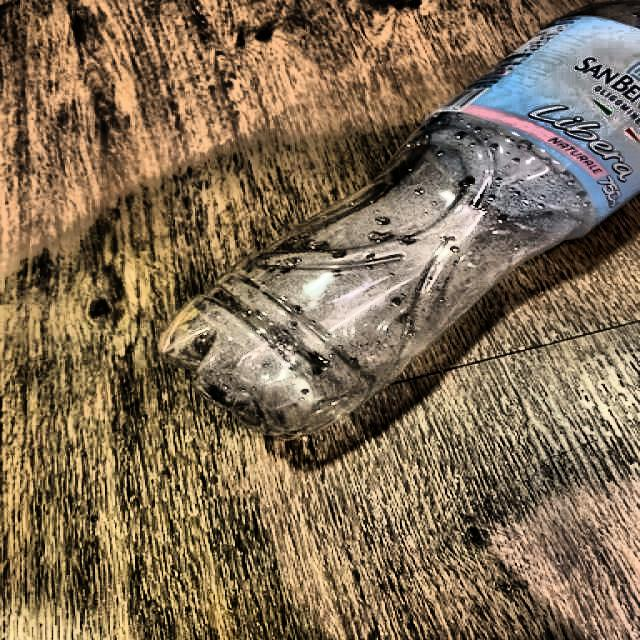plastic bottle: (163, 1, 640, 436)
